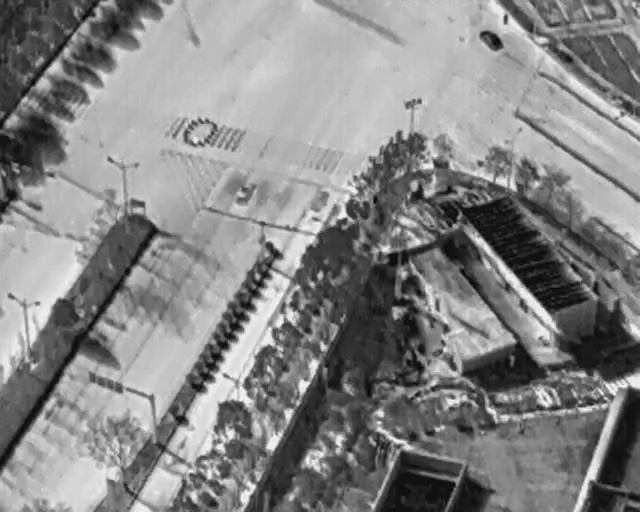Car: (476, 24, 506, 54), (234, 178, 259, 207)
